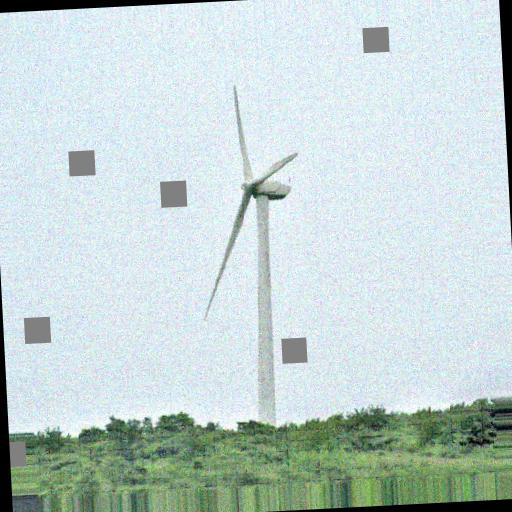wind turbine: (201, 84, 302, 426)
